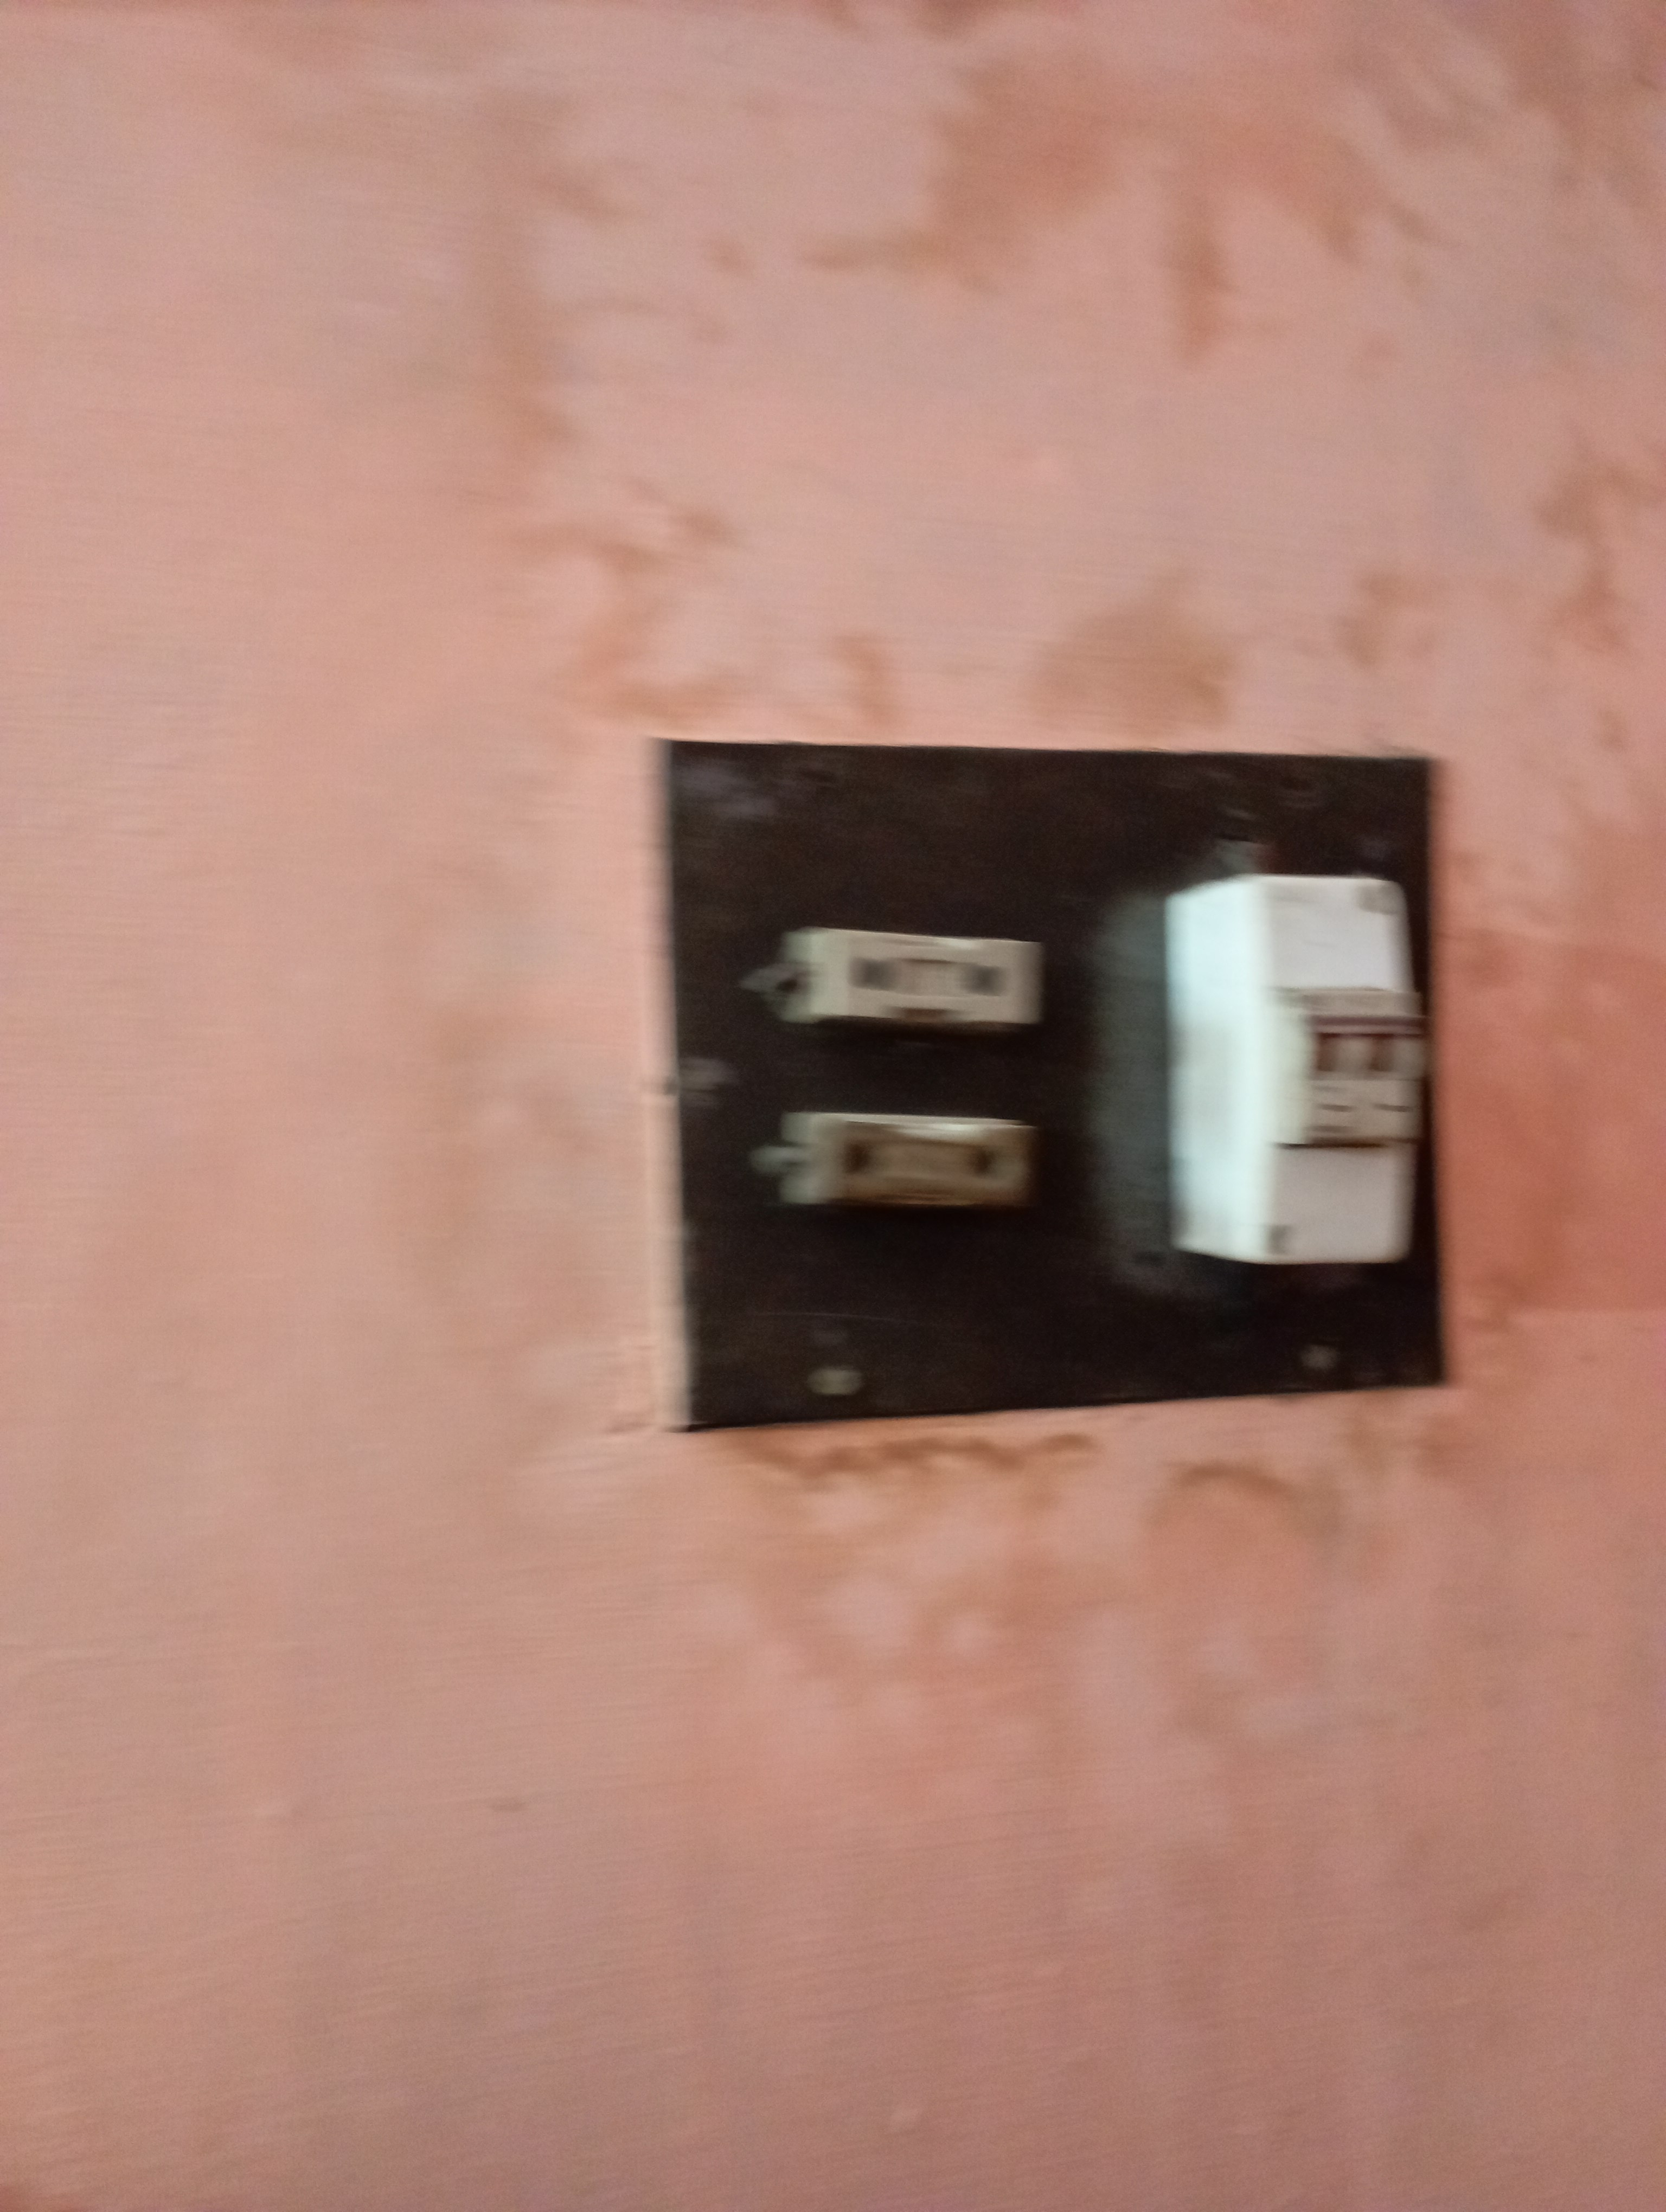ciruit_breaker: (1138, 855, 1442, 1273)
fuse: (737, 916, 1048, 1040), (772, 1102, 1039, 1229)
